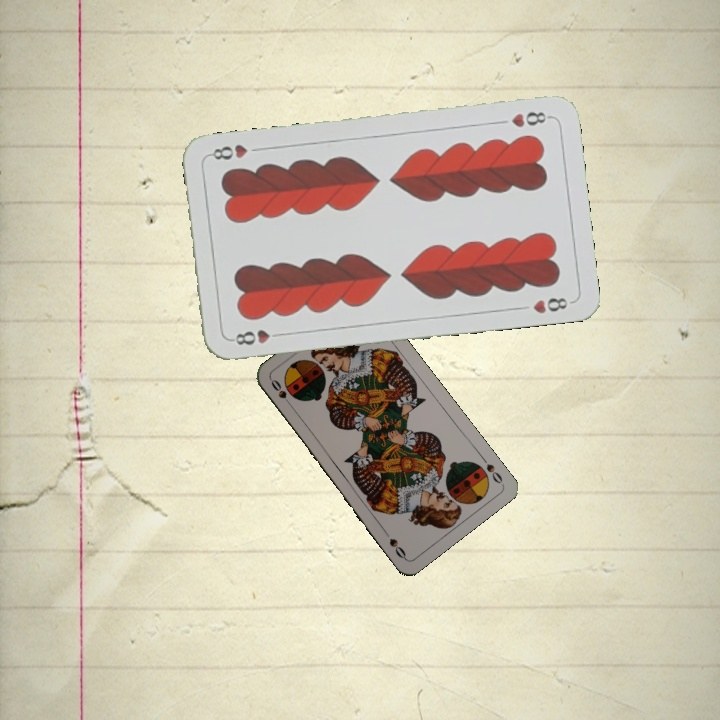H8: (227, 325, 286, 348), (507, 108, 553, 130)
SO: (267, 375, 295, 411), (477, 452, 505, 486)
